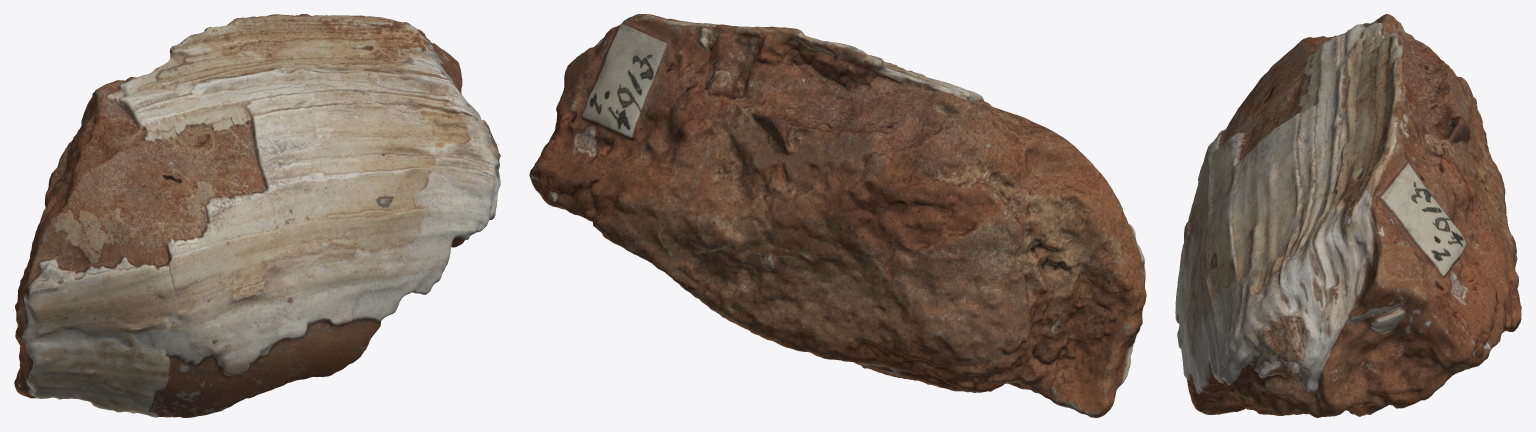
File: EWS0016418.glb
3 views of the same model, side by side, from view 1: azimuth 30°, elevation 25°; view 2: azimuth 150°, elevation 25°; view 3: azimuth 270°, elevation 25° (orthographic). The views are drawn at different scales.
Visible parts, largest first — view 1: input; view 2: input; view 3: input.
Part boxes in pixels (x1,y1,x2,y2): input: (14,14,500,417); input: (529,14,1146,417); input: (1175,14,1521,417).
Size of the model in its own units: 0.0535 by 0.0339 by 0.0285.
Materials: 1 (1 with a texture image).
